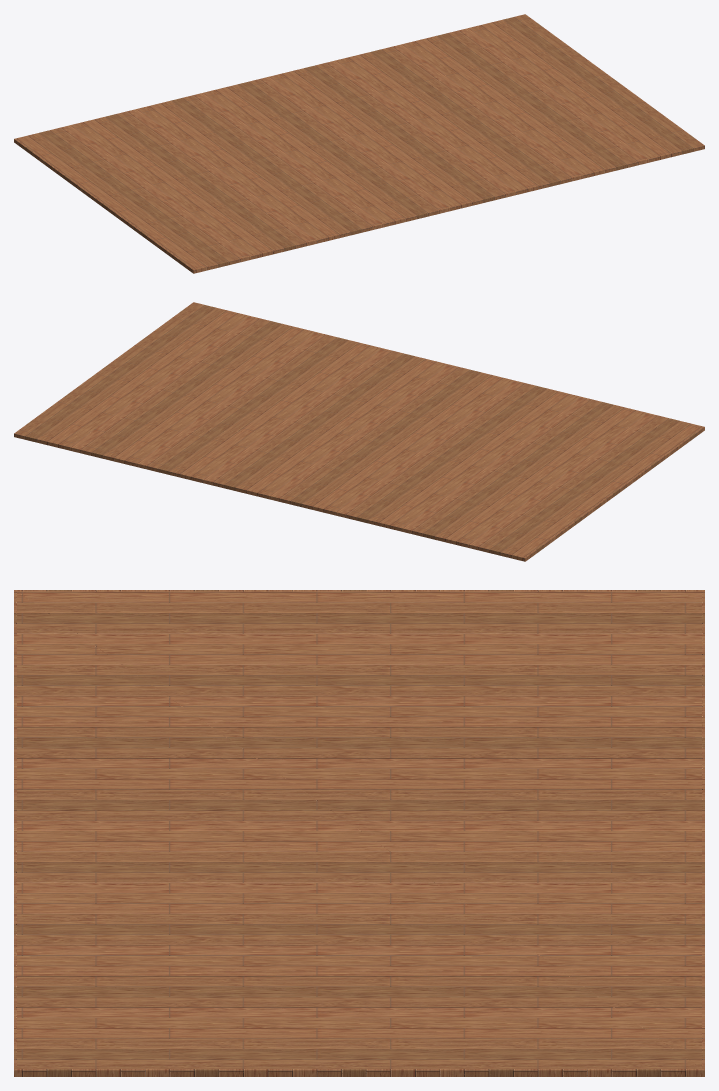
3 renders of one model, top to bottom at view 1: azimuth 30°, elevation 25°; view 2: azimuth 150°, elevation 25°; view 3: azimuth 270°, elevation 25°, orthographic. The views are drawn at different scales.
Visible parts, largest first — view 1: Floor#0_0; view 2: Floor#0_0; view 3: Floor#0_0.
Boxes of the visible parts, box(x1,y1,x2,y2) form: Floor#0_0: box(14, 14, 704, 273); Floor#0_0: box(14, 302, 704, 561); Floor#0_0: box(14, 590, 704, 1076).
Bounding box in the file's own units: 7.71 × 0.05 × 4.69.
1 material, 1 textured.
